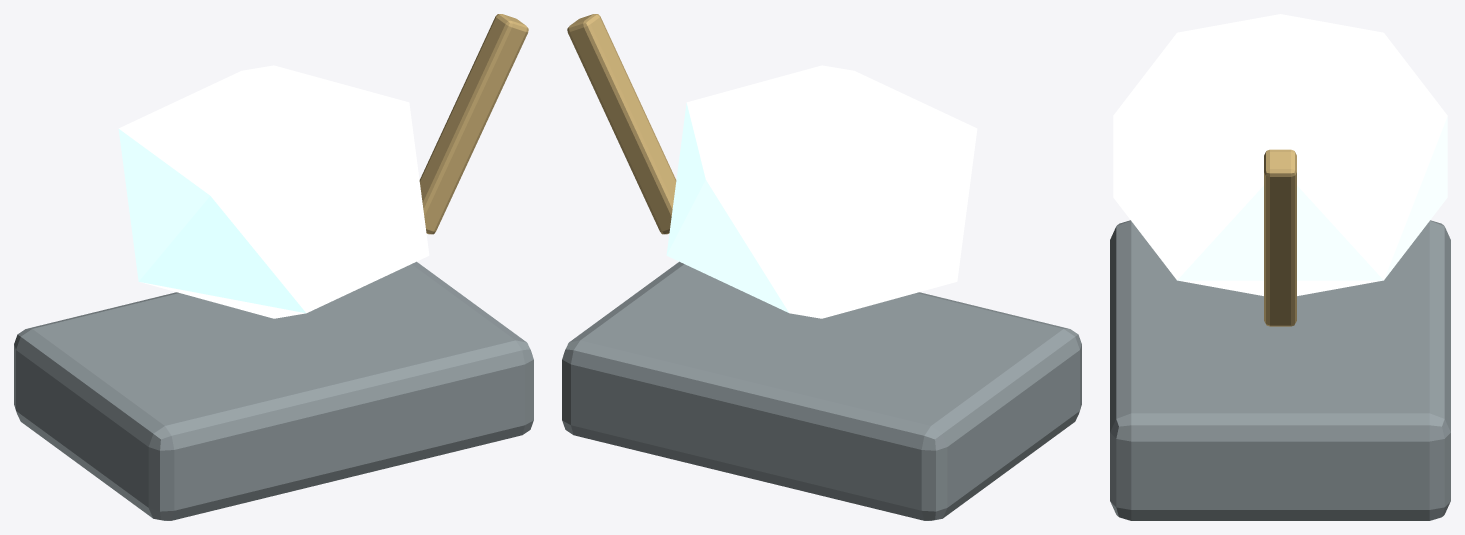
File: settlement_pale_oath_display_v1.glb
The picture shows the model from 3 angles, left to right: view 1: azimuth 30°, elevation 25°; view 2: azimuth 150°, elevation 25°; view 3: azimuth 270°, elevation 25°; orthographic projection. The views are drawn at different scales.
Parts seen in each view (by area): view 1: DisplayPlinth, ThreadCoil, OathNailDisplay; view 2: DisplayPlinth, ThreadCoil, OathNailDisplay; view 3: DisplayPlinth, ThreadCoil, OathNailDisplay.
Part boxes in pixels (x1,y1,x2,y2): DisplayPlinth: (14, 261, 533, 520); ThreadCoil: (118, 65, 429, 318); OathNailDisplay: (419, 14, 528, 234); DisplayPlinth: (562, 261, 1081, 520); ThreadCoil: (666, 65, 977, 318); OathNailDisplay: (567, 14, 676, 234); DisplayPlinth: (1110, 220, 1450, 520); ThreadCoil: (1113, 14, 1447, 295); OathNailDisplay: (1264, 149, 1296, 326).
Bounding box in the file's own units: 0.8742 × 0.69 × 0.52.
